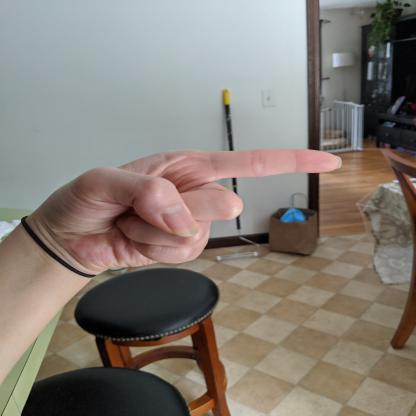G: (48, 144, 348, 276)
